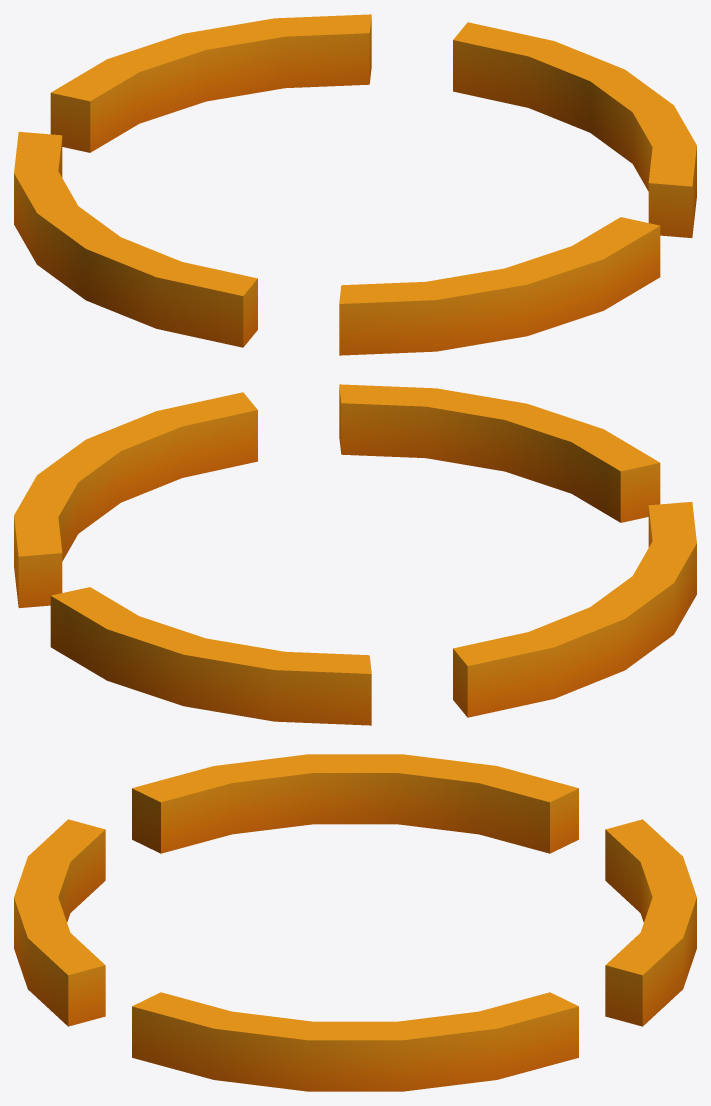
File: Selection_Pointer_02.fbx
The picture shows the model from 3 angles, top to bottom: view 1: azimuth 30°, elevation 25°; view 2: azimuth 150°, elevation 25°; view 3: azimuth 270°, elevation 25°; orthographic projection.
Parts seen in each view (by area): view 1: Selection_Pointer_02; view 2: Selection_Pointer_02; view 3: Selection_Pointer_02.
Part boxes in pixels (x1=…): Selection_Pointer_02: x1=14, y1=14, x2=696, y2=355; Selection_Pointer_02: x1=14, y1=384, x2=696, y2=725; Selection_Pointer_02: x1=14, y1=754, x2=696, y2=1091.
Bounding box in the file's own units: 109 × 9.11 × 110.
